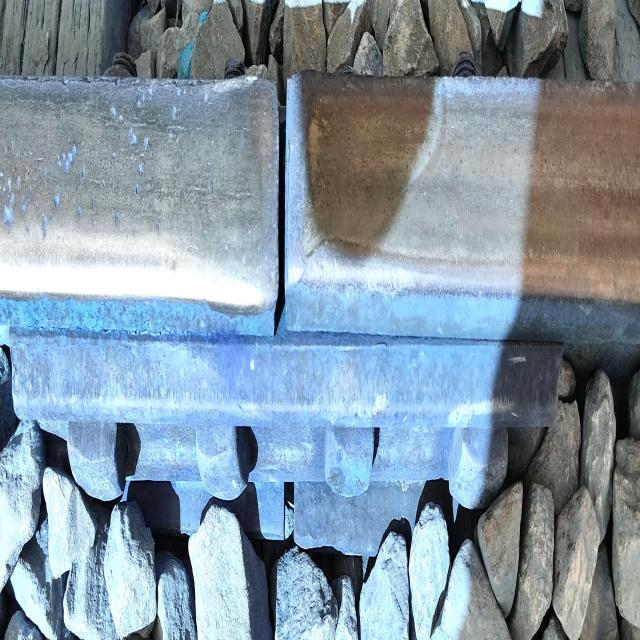Good Joint: (8, 327, 568, 582)
